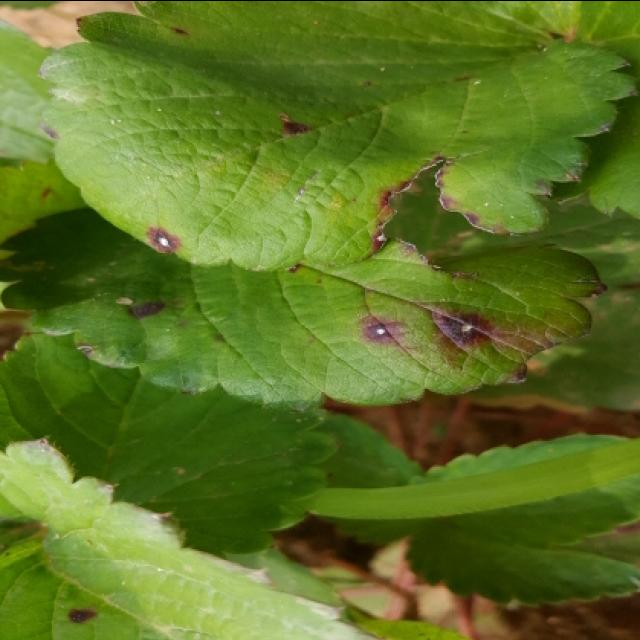Leaf Spot: (36, 2, 638, 271), (0, 205, 609, 410), (0, 437, 385, 640)
